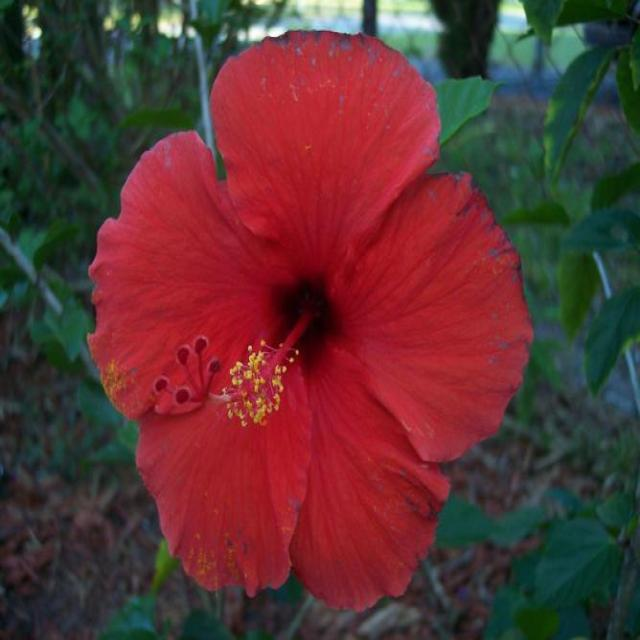hibiscus: (73, 27, 536, 640)
